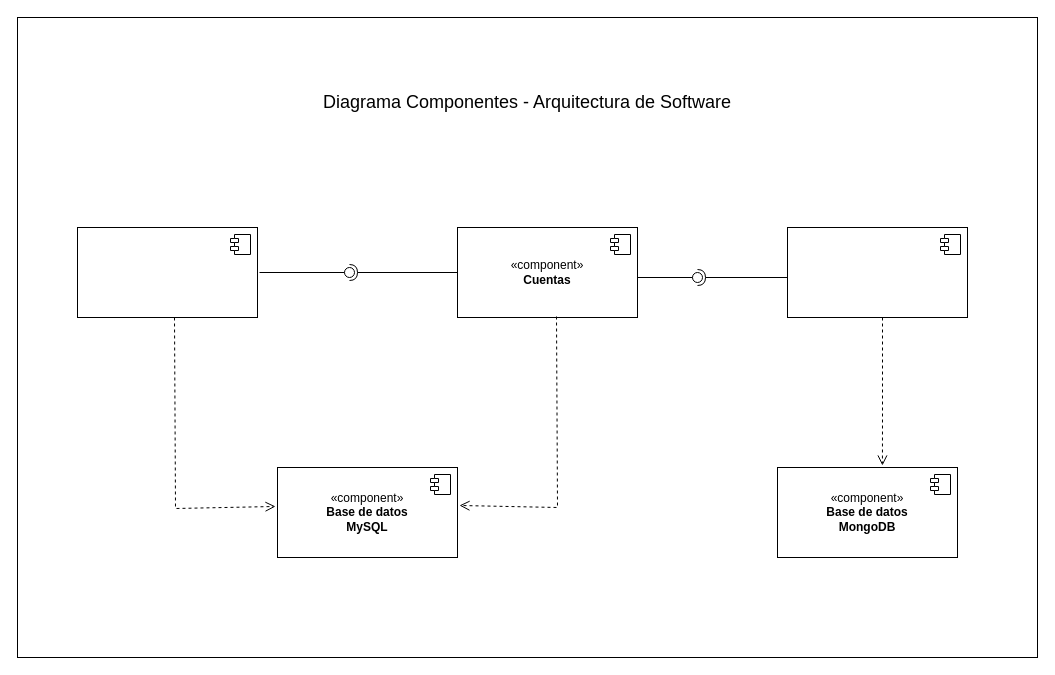
Some shapes in this 1055 by 675 pixel diagram are drawn without their labels. Each missing label, with the centre of its shape:
"«component» Clientes" goes at (x=167, y=272).
"«component» Transacciones" goes at (x=877, y=272).
